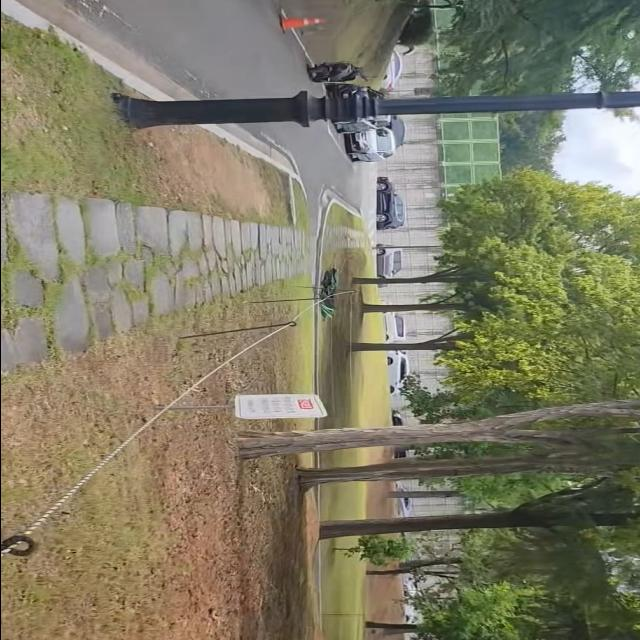obstacle: (115, 86, 640, 132), (336, 108, 406, 174), (285, 53, 376, 90), (268, 14, 331, 38)
road: (27, 0, 366, 216)
sidewalk: (0, 191, 304, 386)
